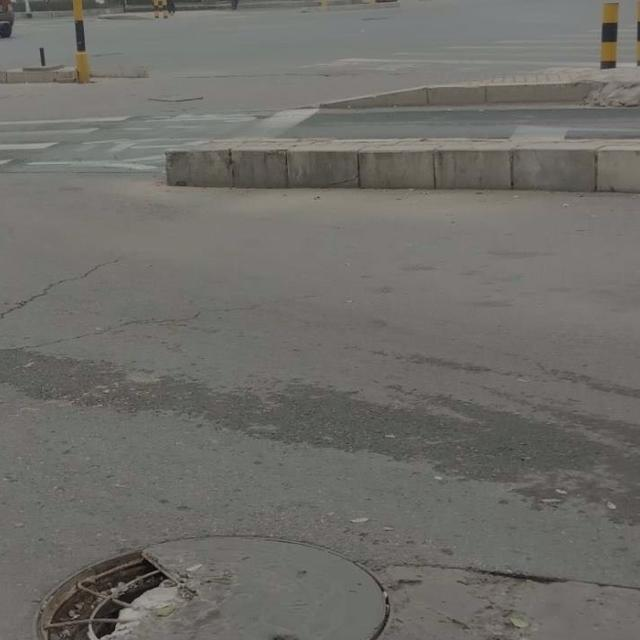broke: (35, 535, 389, 640)
